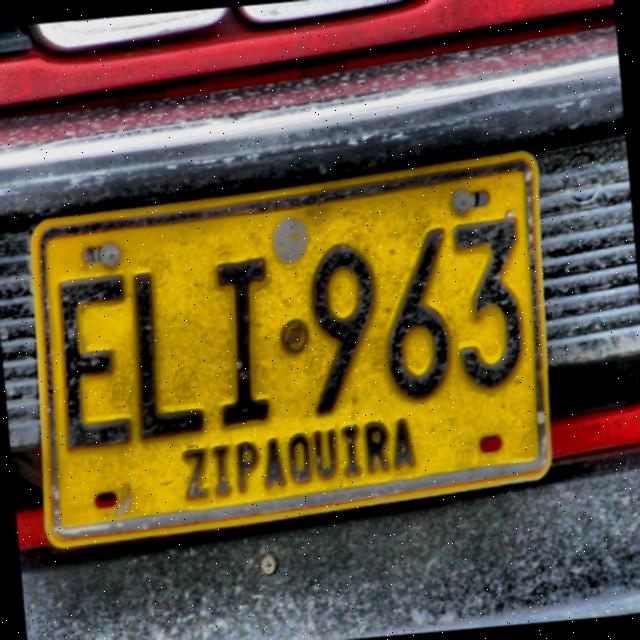3: (446, 216, 532, 396)
6: (374, 226, 461, 401)
9: (300, 238, 390, 416)
E: (51, 269, 140, 456)
I: (205, 255, 282, 426)
L: (124, 266, 212, 444)
